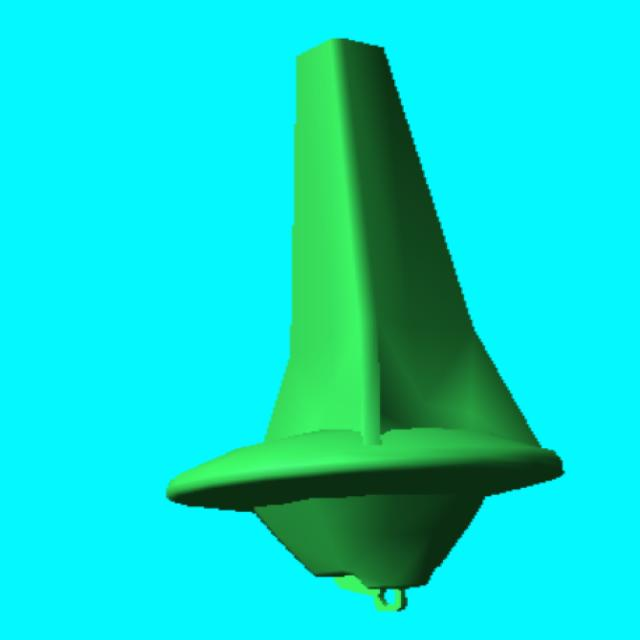GreenBuoy: (168, 36, 564, 613)
